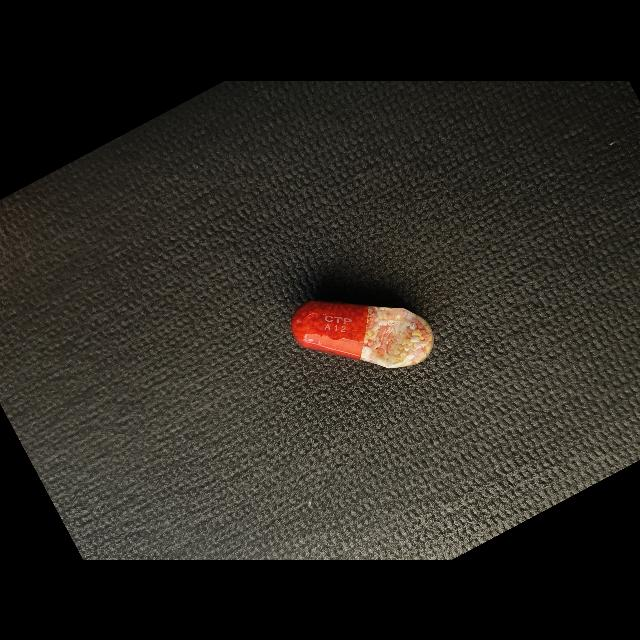Defective Capsule: (291, 300, 434, 368)
